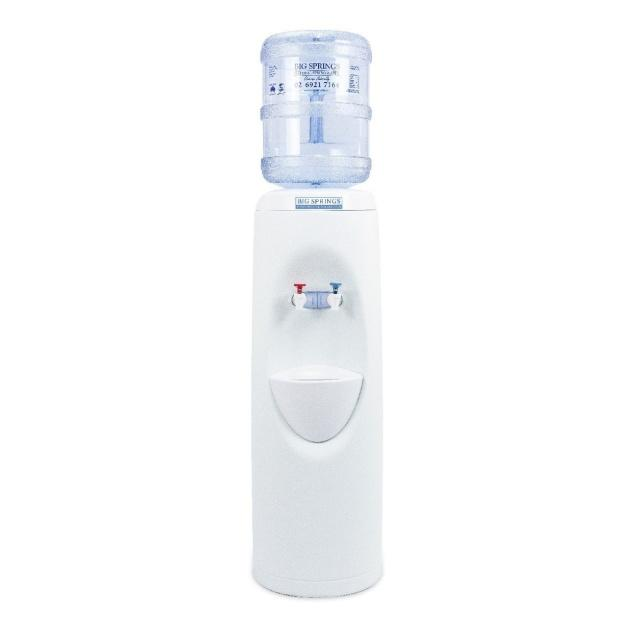Dispenser: (251, 29, 382, 595)
